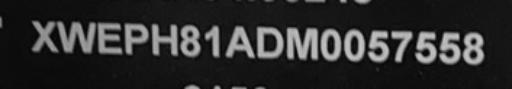letter: (55, 17, 97, 56), (282, 25, 320, 64), (222, 22, 256, 61), (252, 24, 286, 63), (28, 16, 60, 55), (148, 19, 178, 58), (122, 21, 150, 60), (96, 20, 124, 57), (317, 25, 343, 64), (411, 27, 437, 66), (436, 28, 462, 67), (365, 25, 391, 62), (390, 27, 414, 66), (461, 28, 485, 67), (178, 23, 202, 60), (342, 27, 366, 64), (201, 21, 221, 60)
